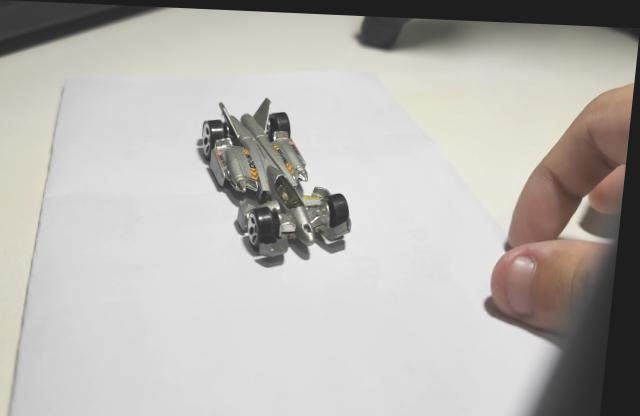05_DC121: (198, 96, 357, 259)
